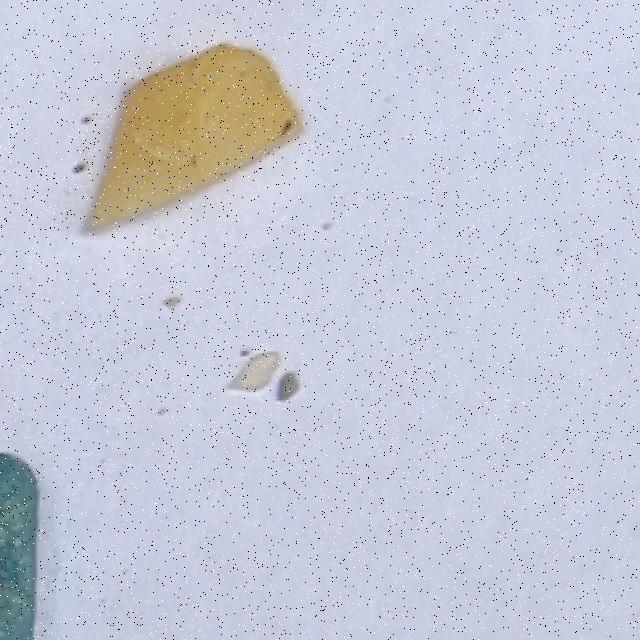fragments: (37, 21, 313, 247), (220, 341, 292, 408)
